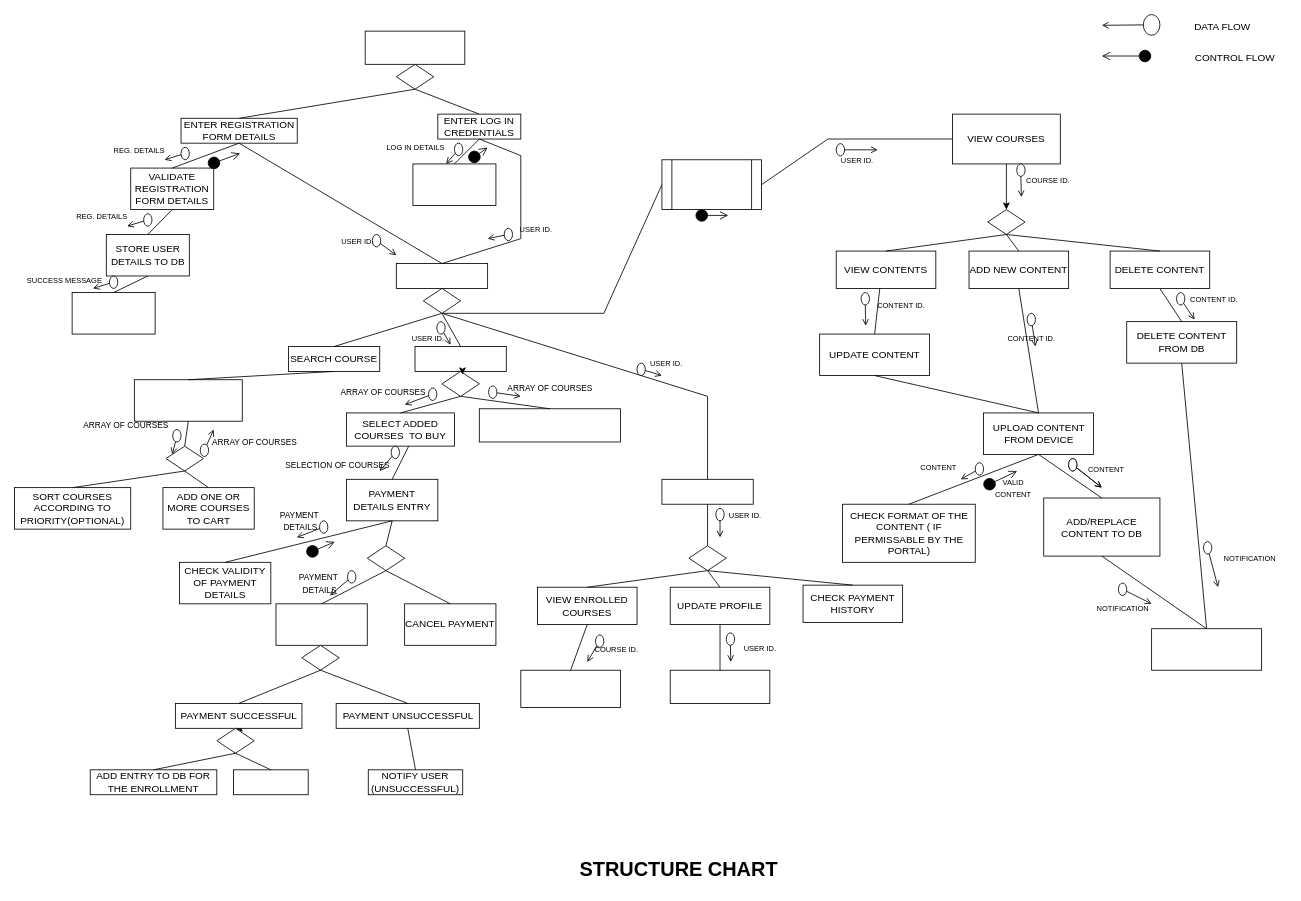
Image size: 1301x901. Some labels were removed from this diagram. Here are the shapes that lost their labels. From the top down, the centre of each, then its label:
At point (414, 47): "ACCESS E-LEARNING PORTAL".
At point (454, 184): "VALIDATE LOG IN DETAILS WITH DATABASE".
At point (711, 184): "CHECK ROLE OF USER - IF TEACHER".
At point (441, 275): "LOAD DASHBOARD".
At point (113, 313): "NOTIFY USERS ENTRY SUCCESSFUL".
At point (460, 358): "GO TO CART".
At point (188, 400): "FETCH AND LOAD COURSES' DETAILS FROM DAATABASE".
At point (549, 425): "REMOVE COURSES FROM CART ( IF AVAILABLE)".
At point (707, 491): "GO TO PROFILE".
At point (321, 624): "INITIATE PAYMENT".
At point (1206, 649): "NOTIFY ENROLLED STUDENTS".
At point (570, 688): "LOAD COURSE".
At point (719, 686): "SAVE CHANGES TO DB".
At point (270, 782): "NOTIFY USER".
